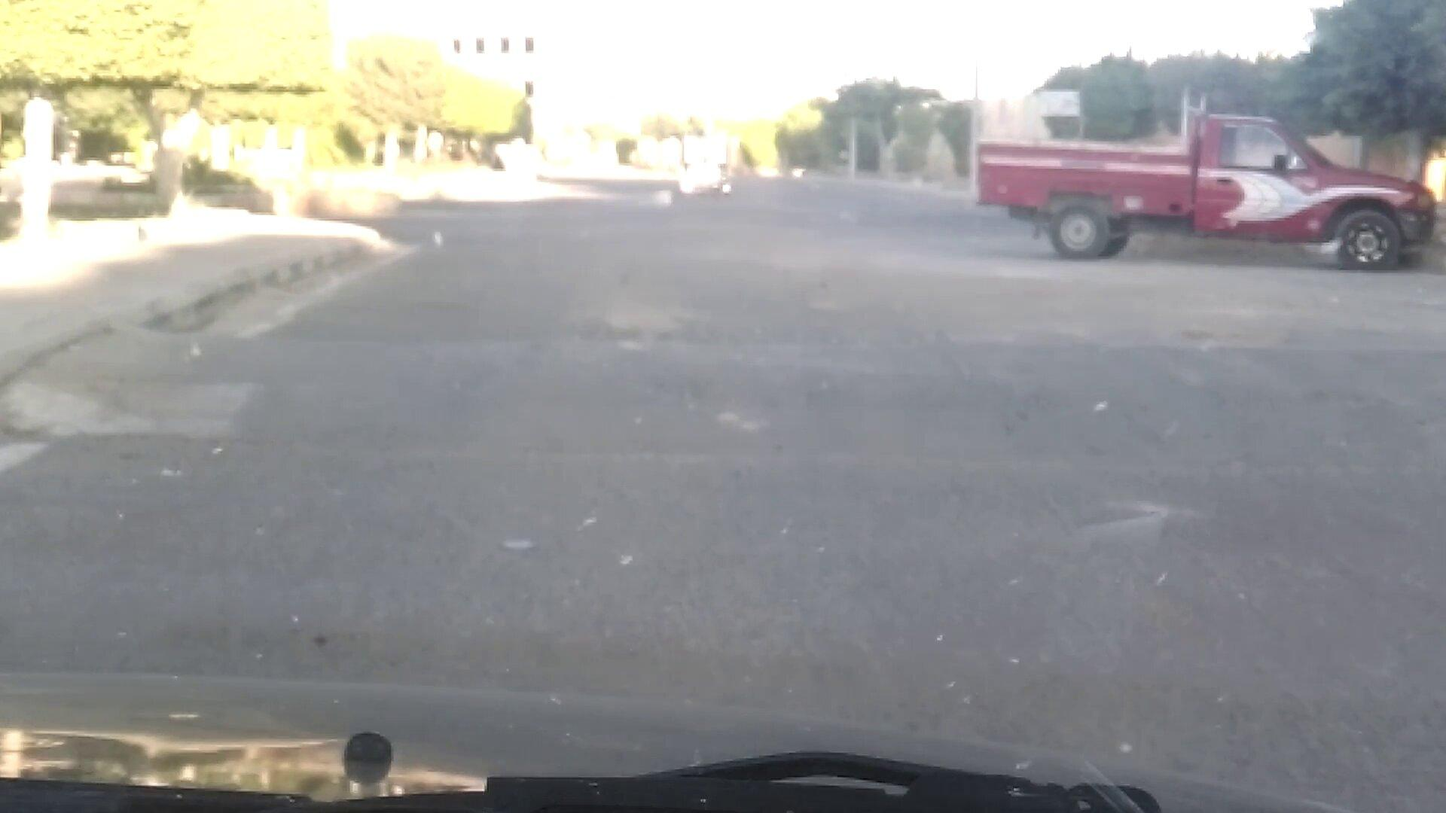Bump: (143, 303, 1446, 465)
